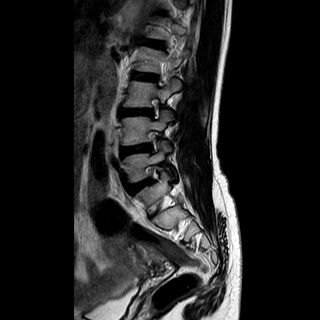LFS0: (142, 90, 165, 124)
LFS1: (141, 160, 168, 190), (142, 123, 165, 158)
